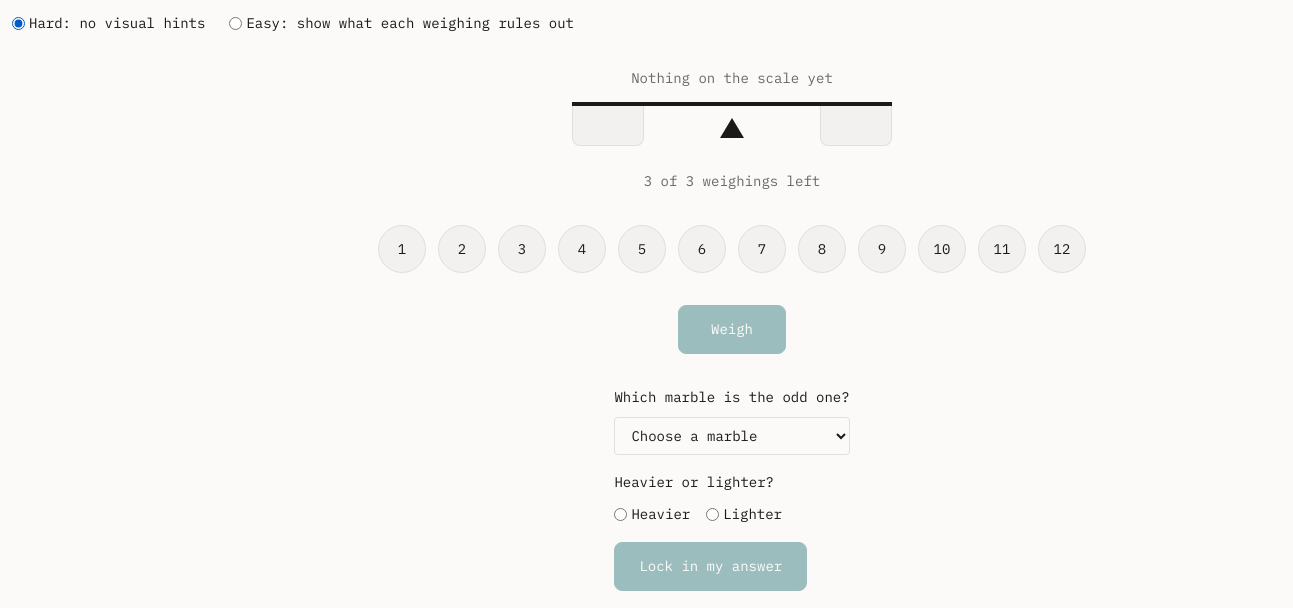
Test: MarblePuzzle › shows a lucky-guess result for a correct answer with no weighings done
Select "Marble 1" in the dropdown labelled "Which marble is the odd one?" at {"x": 732, "y": 436}, box [614,418,850,456]
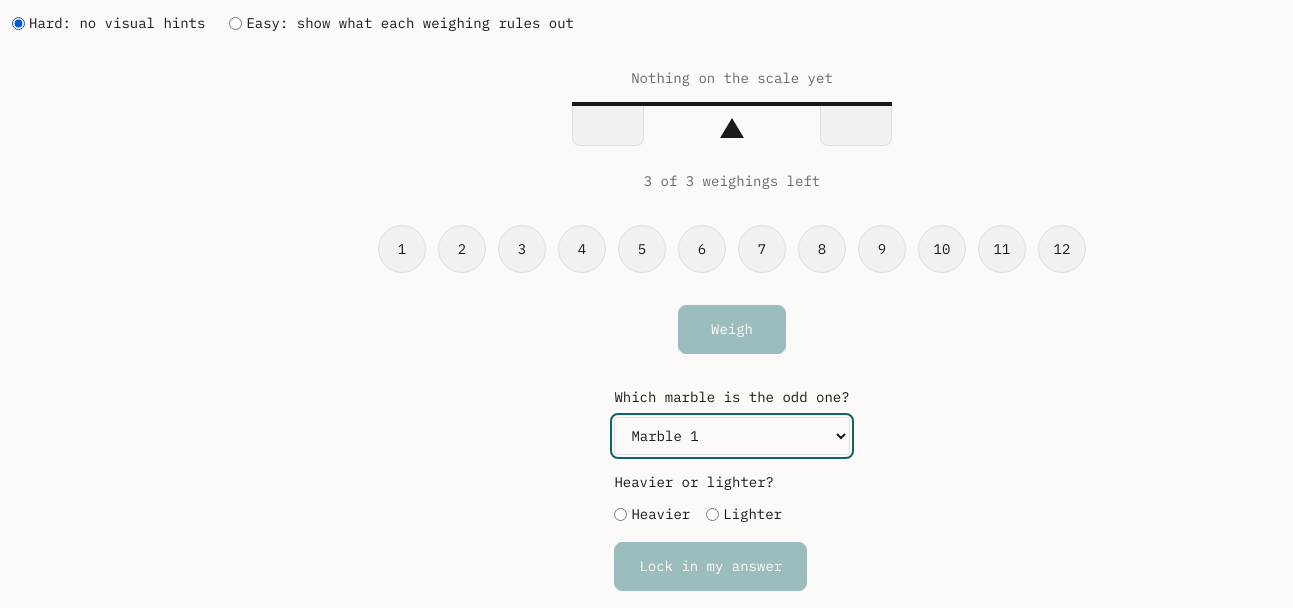
Click the radio button labelled "Heavier" at {"x": 621, "y": 514}, box [614,508,627,521]
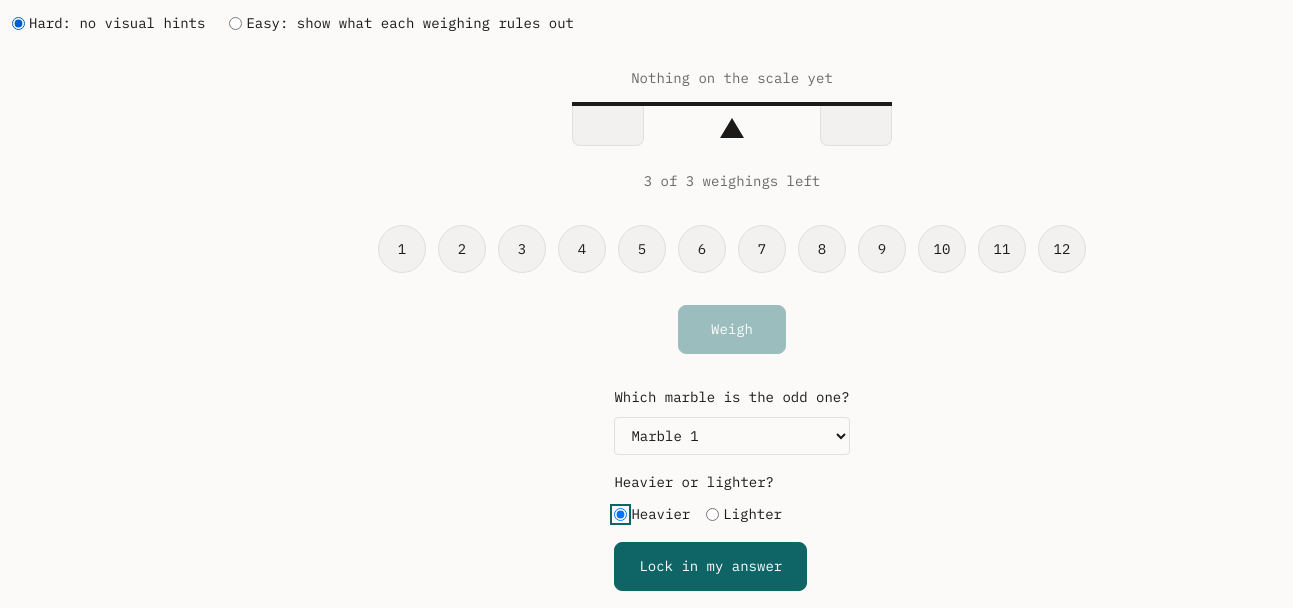
Click the button "Lock in my answer" at {"x": 711, "y": 566}, box [614,542,807,591]
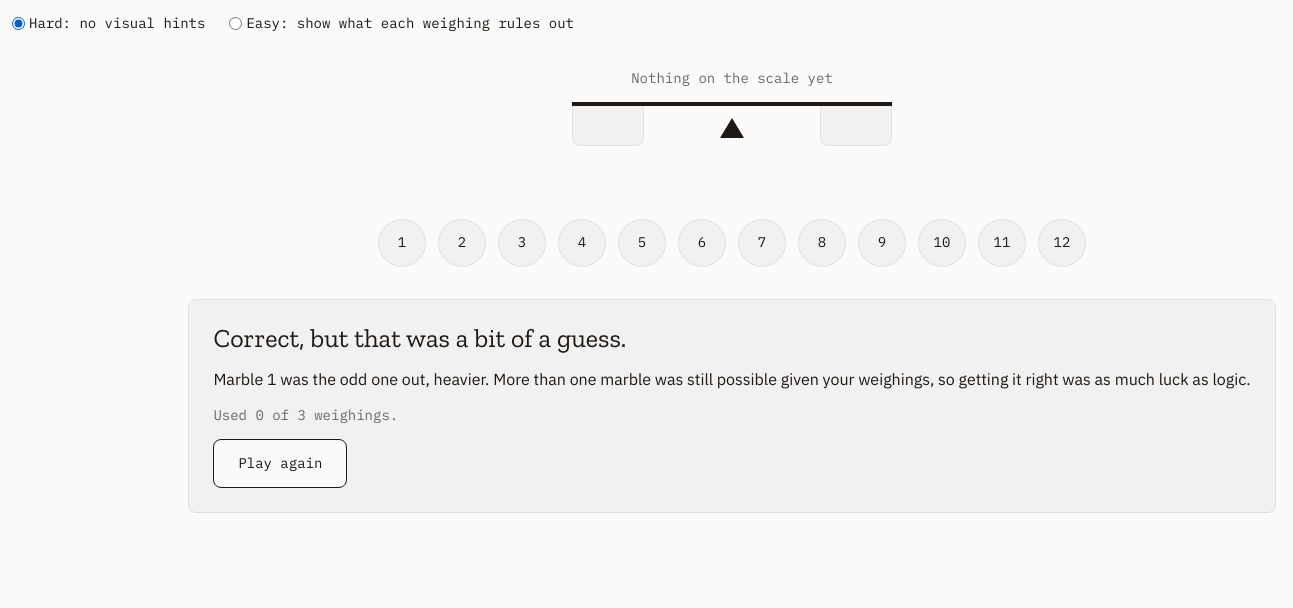
Check: the heading "Correct, but that was a bit of a guess." is shown, box [213,324,626,354]
